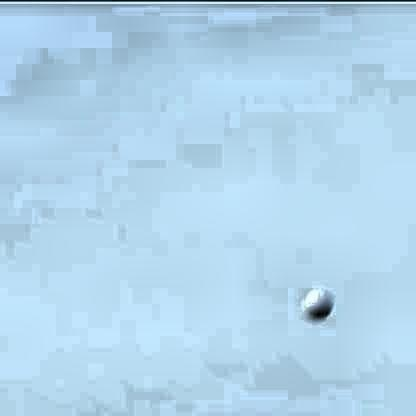golfball: (298, 284, 329, 317)
